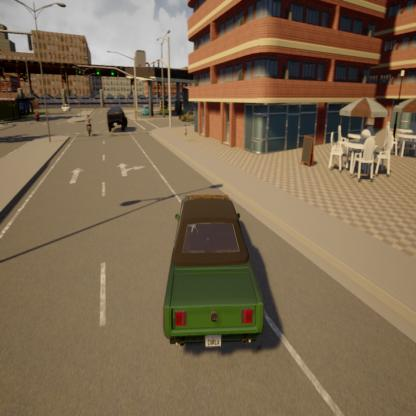Cars: (142, 182, 270, 359), (103, 100, 130, 136), (178, 105, 200, 125)
